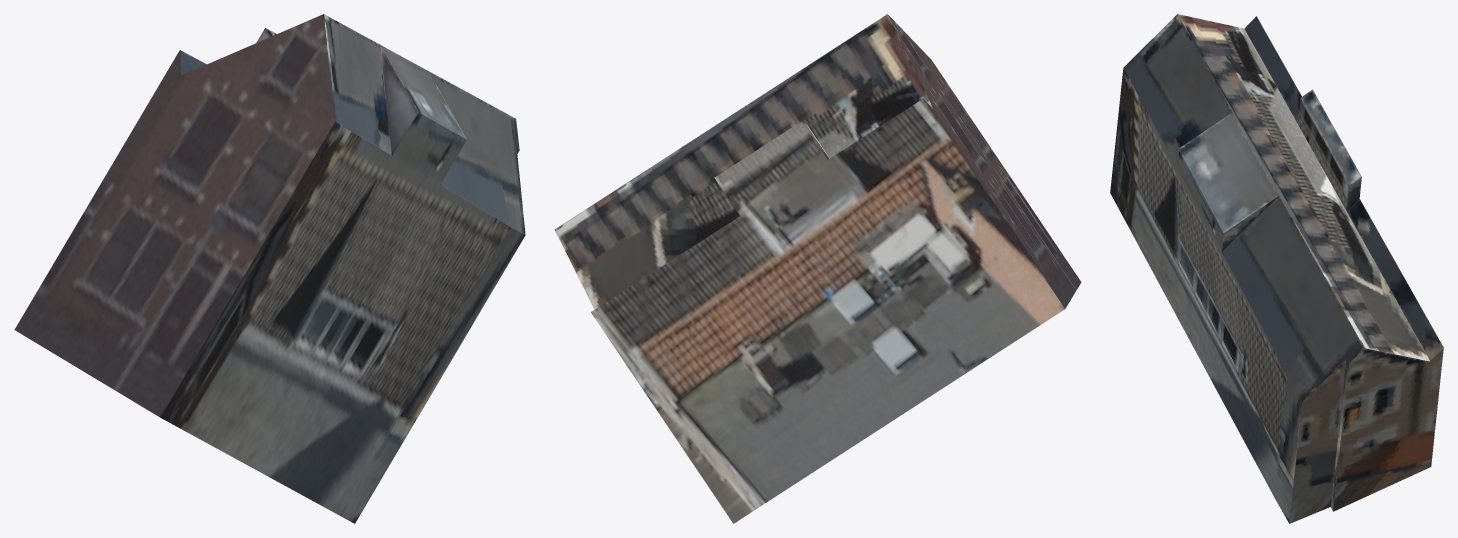
The picture shows the model from 3 angles, left to right: view 1: azimuth 30°, elevation 25°; view 2: azimuth 150°, elevation 25°; view 3: azimuth 270°, elevation 25°; orthographic projection. The views are drawn at different scales.
Parts seen in each view (by area): view 1: BAG_0599100000656925 (×4); view 2: BAG_0599100000656925 (×2); view 3: BAG_0599100000656925 (×5).
Part boxes in pixels (box(x1,y1,x2,y2)): BAG_0599100000656925 (×4): box(14, 14, 525, 523); BAG_0599100000656925 (×2): box(554, 14, 1081, 523); BAG_0599100000656925 (×5): box(1110, 14, 1443, 523).
Bounding box in the file's own units: 16.16 × 15.67 × 10.08.
5 materials, 5 textured.
